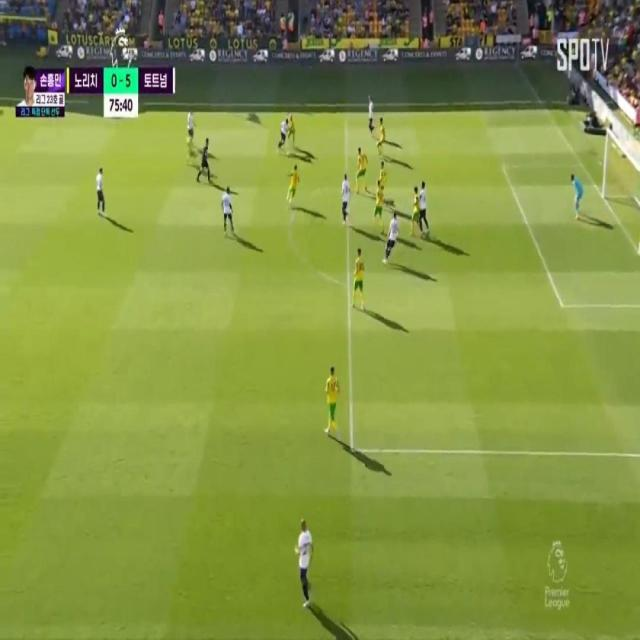ball: (382, 256, 388, 270)
goalkeeper: (568, 171, 587, 226)
player: (296, 519, 313, 595), (325, 365, 339, 431), (218, 186, 237, 232), (352, 245, 365, 309), (418, 176, 431, 236), (351, 145, 365, 197), (406, 187, 421, 235), (286, 166, 302, 207), (94, 164, 107, 213), (340, 171, 352, 223), (363, 93, 377, 134), (372, 181, 386, 219), (185, 109, 198, 143), (279, 111, 289, 154), (387, 205, 395, 257), (287, 109, 296, 147), (377, 117, 386, 155), (378, 159, 386, 186)
referee: (196, 137, 212, 185)
